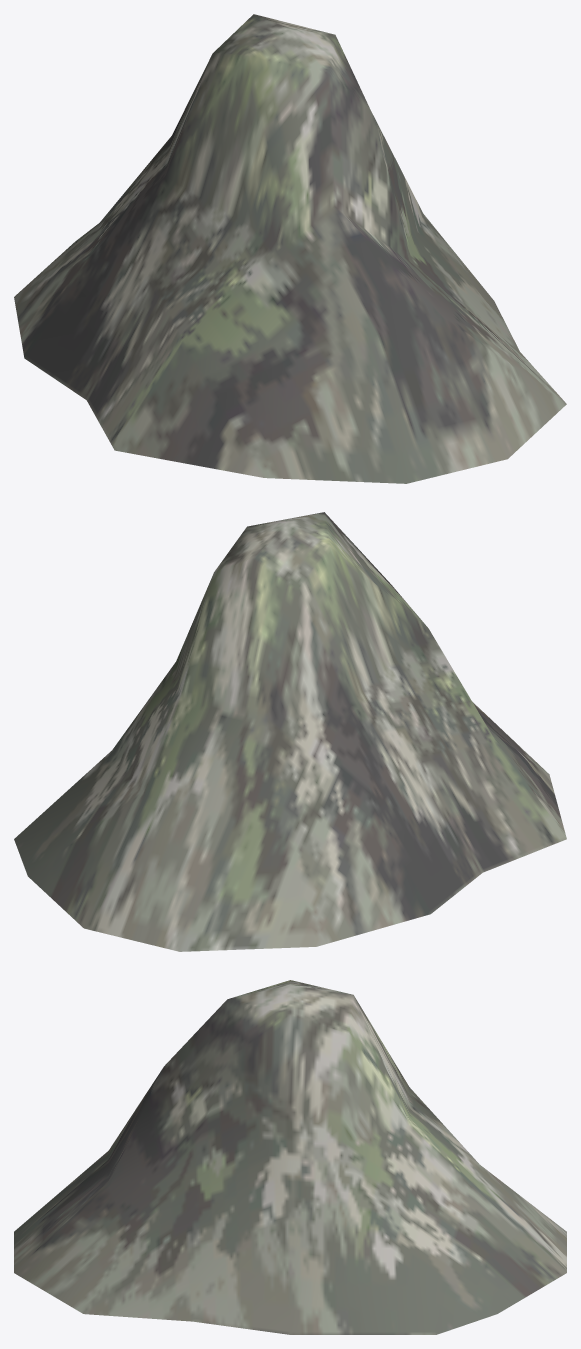
The model's file is BgMD_Mid_Mount_D_tall.FBX.
The picture shows the model from 3 angles, top to bottom: view 1: azimuth 30°, elevation 25°; view 2: azimuth 150°, elevation 25°; view 3: azimuth 270°, elevation 25°; orthographic projection. The views are drawn at different scales.
Visible parts, largest first — view 1: BgMD_Mid_Mount_D_tall; view 2: BgMD_Mid_Mount_D_tall; view 3: BgMD_Mid_Mount_D_tall.
Boxes of the visible parts, left/top/right/bottom form: BgMD_Mid_Mount_D_tall: left=14, top=14, right=566, bottom=483; BgMD_Mid_Mount_D_tall: left=14, top=512, right=566, bottom=951; BgMD_Mid_Mount_D_tall: left=14, top=980, right=566, bottom=1334.
Size of the model in its own units: 3262 by 2275 by 4272.
